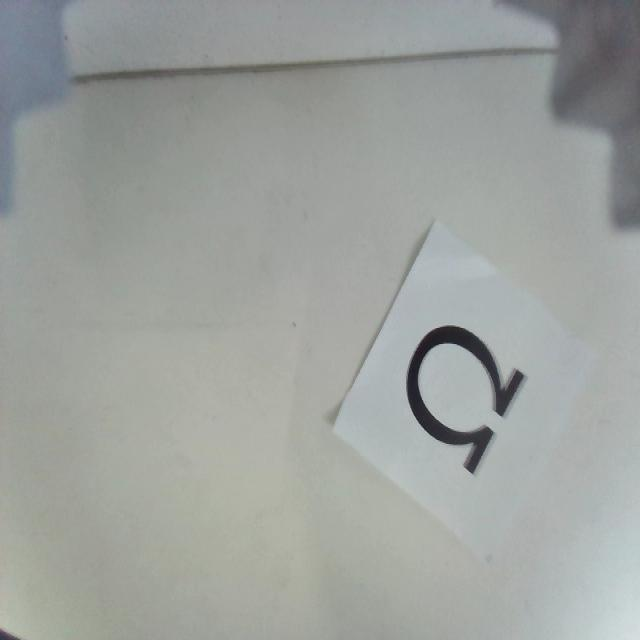OM: (405, 322, 526, 472)
